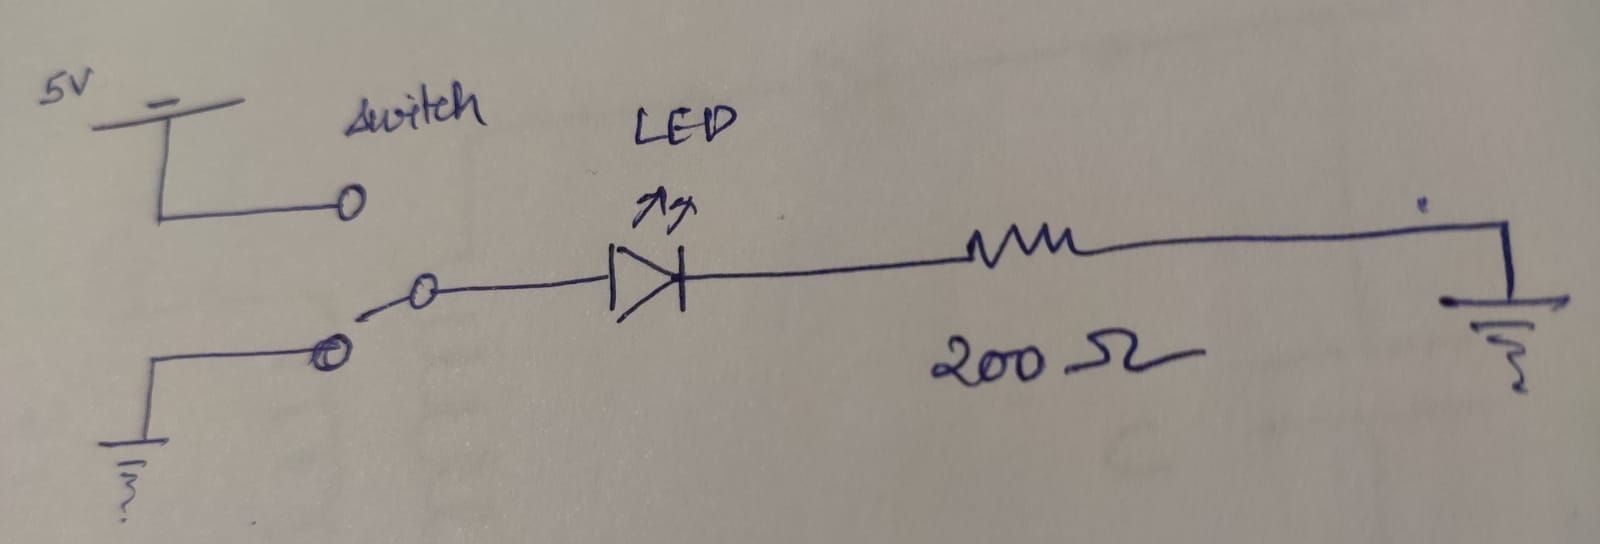diode.light_emitting: (601, 183, 700, 319)
gnd: (1438, 287, 1567, 393), (97, 433, 168, 522)
junction: (1487, 212, 1520, 244), (150, 208, 171, 231), (145, 350, 166, 372)
resistor: (957, 222, 1084, 268)
switch: (309, 182, 445, 374)
text: (930, 324, 1211, 391), (349, 81, 482, 132), (635, 102, 739, 147), (35, 63, 96, 108)
voltage.dc: (86, 94, 251, 131)
